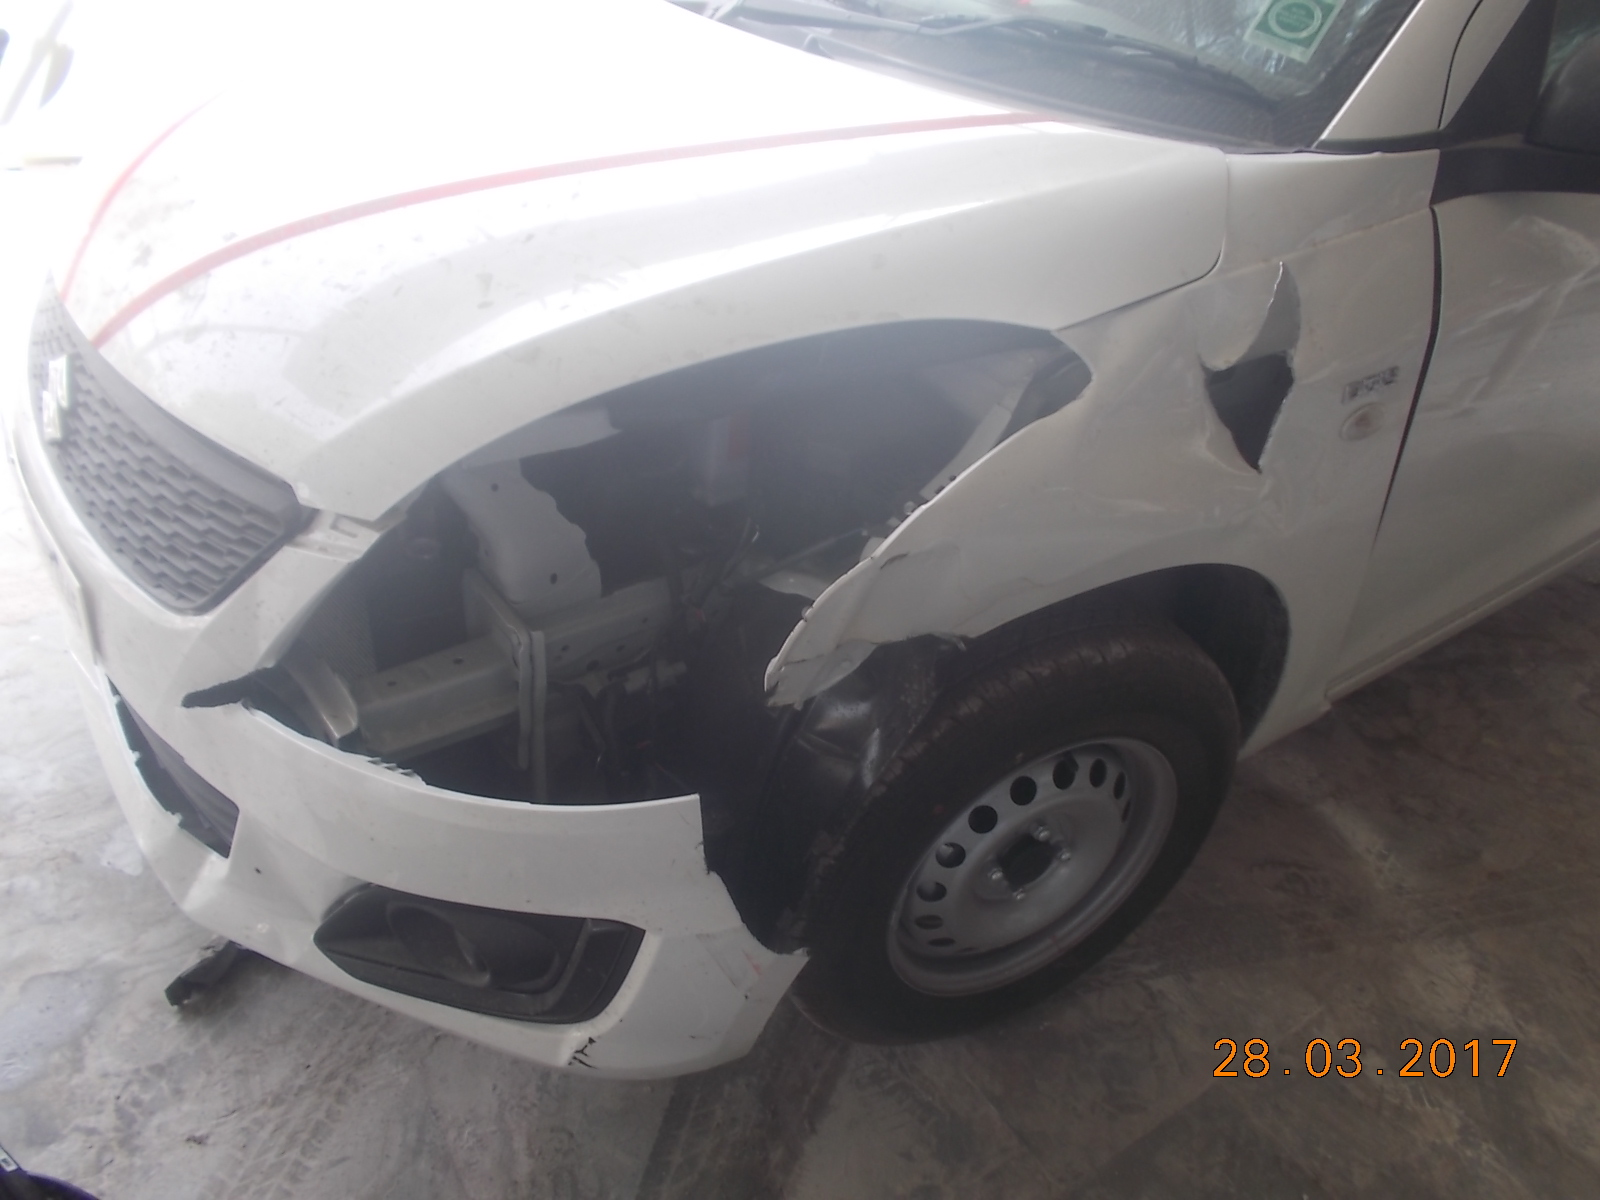Dislocation: (669, 603, 903, 959)
Tear: (1186, 296, 1301, 463), (152, 664, 270, 726)
